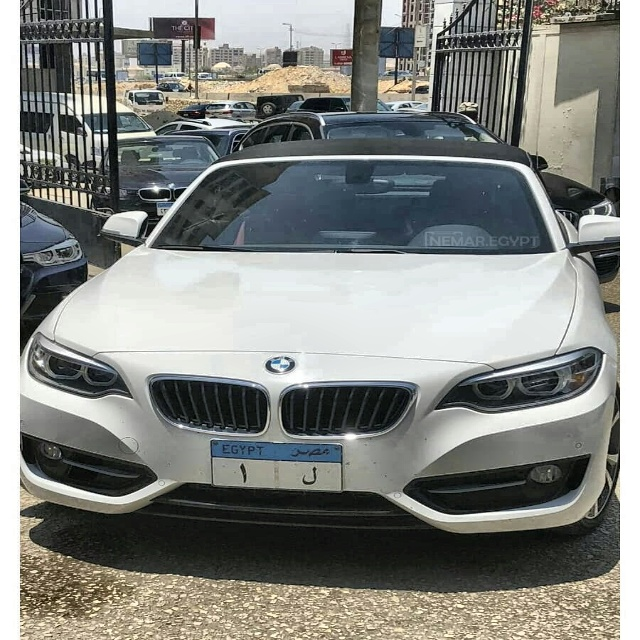License Plate: (208, 437, 346, 494)
